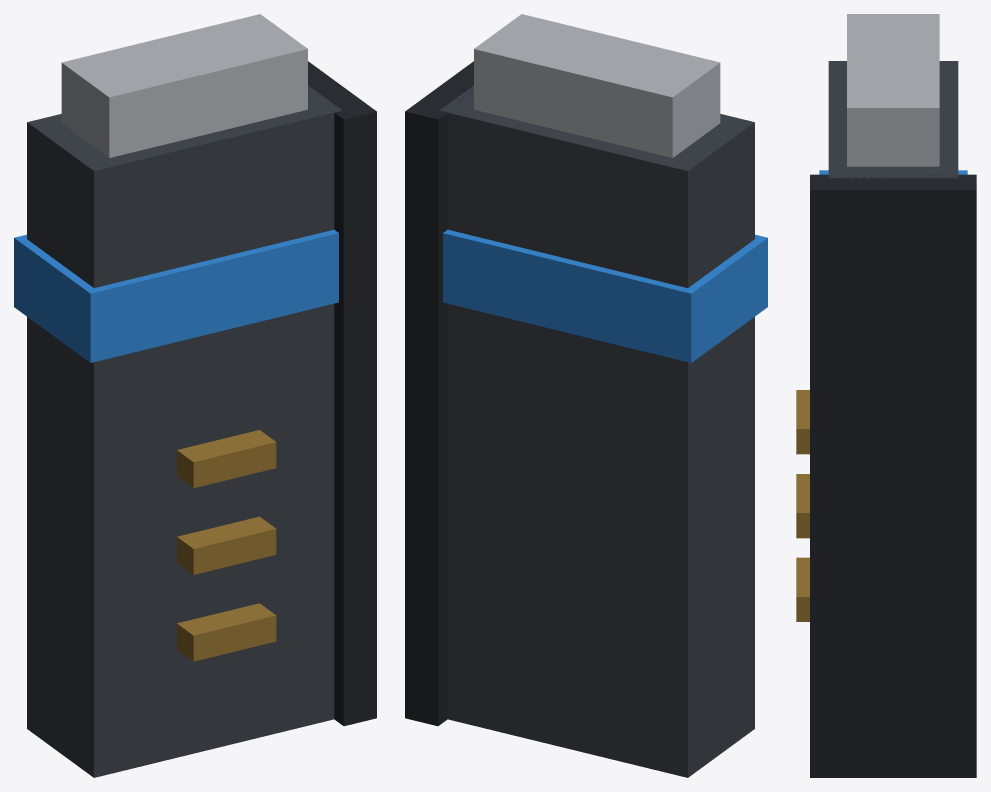
File: flechette-mag-ion.glb
3 renders of one model, left to right at view 1: azimuth 30°, elevation 25°; view 2: azimuth 150°, elevation 25°; view 3: azimuth 270°, elevation 25°, orthographic. The views are drawn at different scales.
Parts seen in each view (by area): view 1: m; view 2: m; view 3: m.
Part boxes in pixels (left/top/right/bottom): m: left=14, top=14, right=376, bottom=777; m: left=405, top=14, right=767, bottom=777; m: left=796, top=14, right=976, bottom=777.
Size of the model in its own units: 0.0309 by 0.07 by 0.0177.
